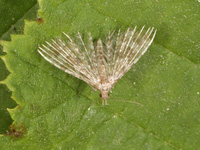Alucitidae: (34, 22, 159, 107)
moth: (36, 24, 161, 109)
